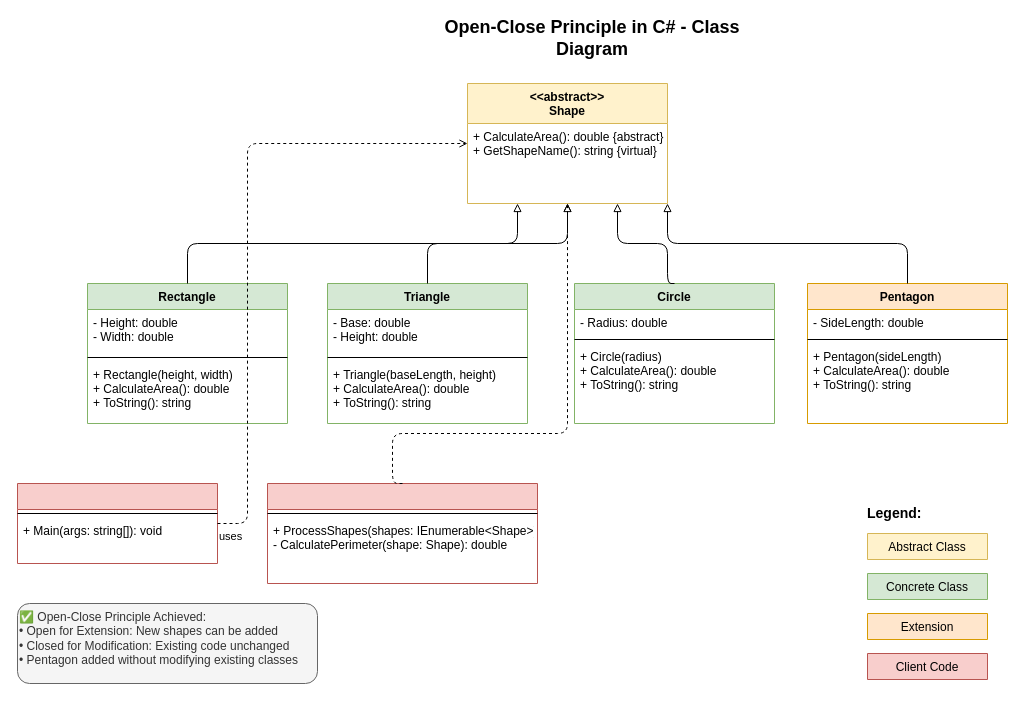
Some shapes in this 1025 by 701 pixel diagram are drawn without their labels. The box of each missing label's shape, as (x1, y1, x2, y2) in pixels:
AreaCalculatorService: (266, 482, 538, 584)
Program: (16, 482, 218, 564)
